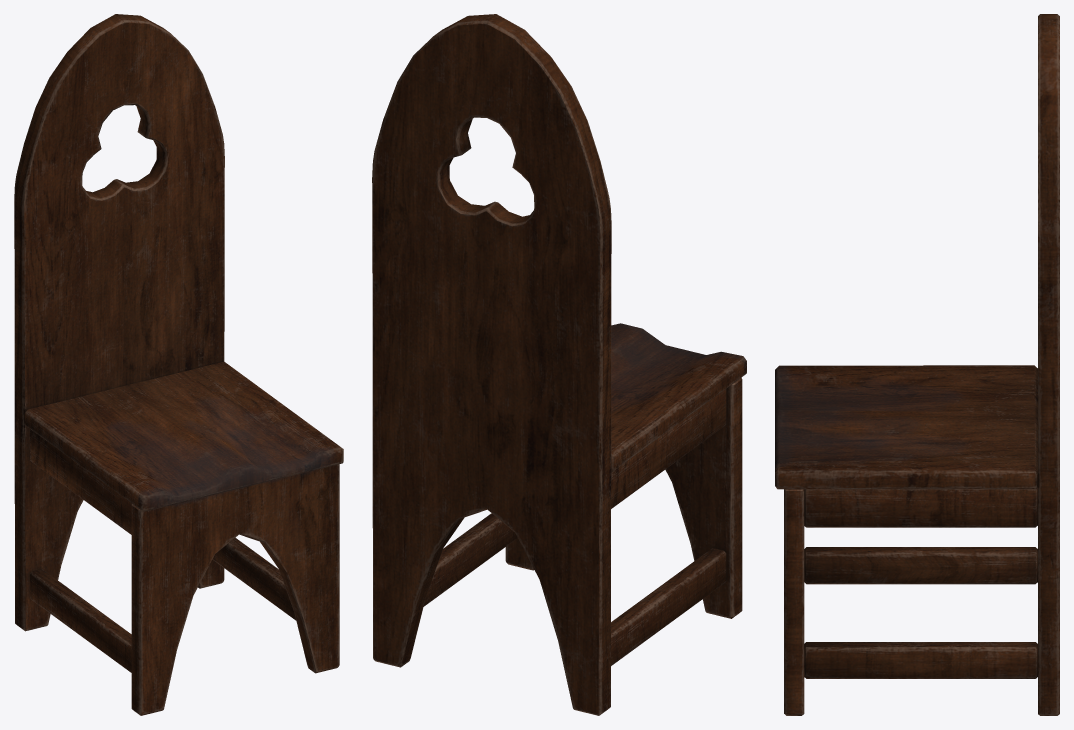
Rendered from medieval_chair.glb.
The picture shows the model from 3 angles, left to right: view 1: azimuth 30°, elevation 25°; view 2: azimuth 150°, elevation 25°; view 3: azimuth 270°, elevation 25°; orthographic projection. The views are drawn at different scales.
Visible parts, largest first — view 1: Medieval_Chair; view 2: Medieval_Chair; view 3: Medieval_Chair.
Part boxes in pixels (left/top/right/bottom): Medieval_Chair: left=14, top=14, right=343, bottom=715; Medieval_Chair: left=372, top=14, right=746, bottom=715; Medieval_Chair: left=775, top=14, right=1059, bottom=715.
Bounding box in the file's own units: 0.4618 × 1.28 × 0.5115.
Materials: 1 (1 with a texture image).
